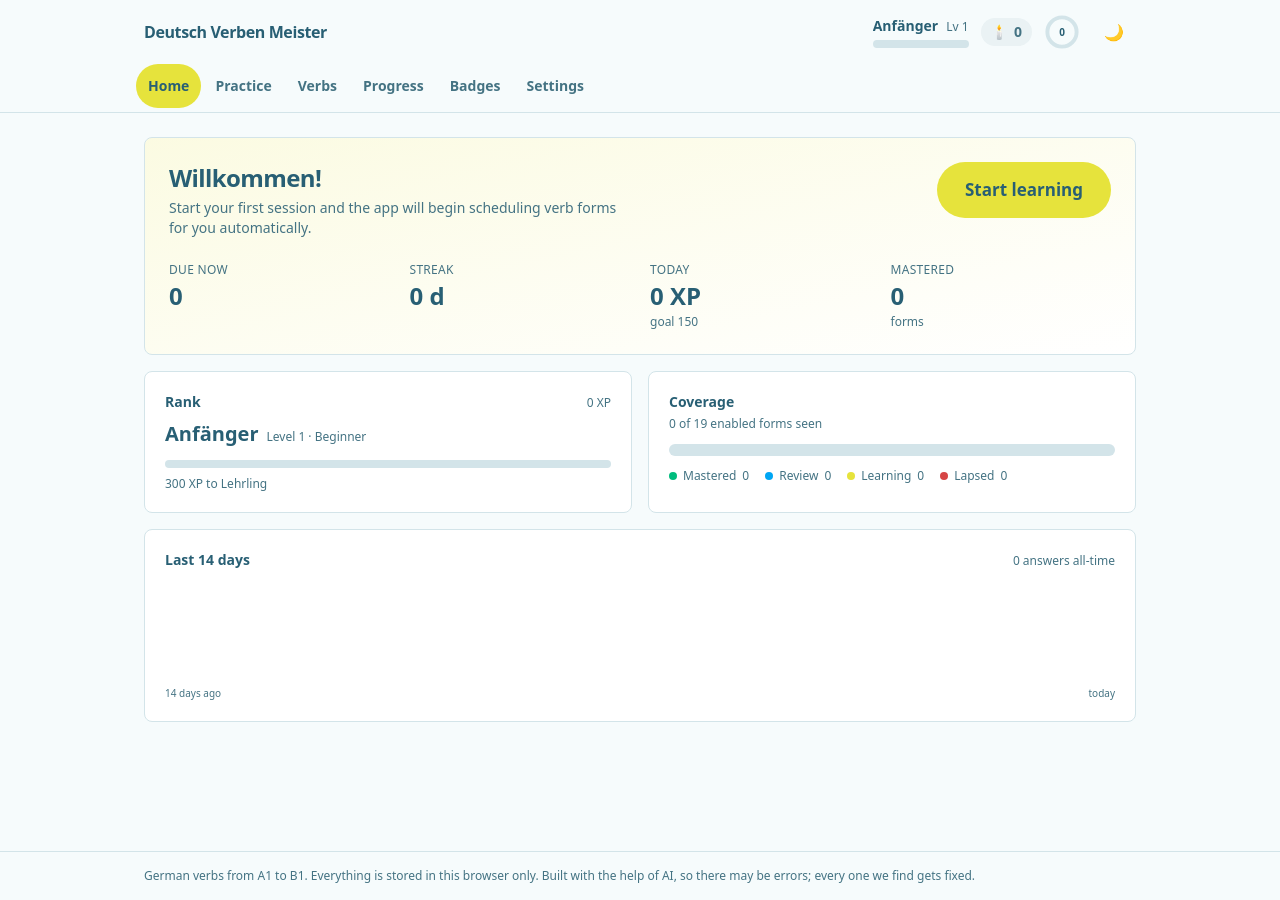
Test: application shell › navigates to every top-level page without crashing
Expected: the heading "Willkommen!" is shown, [169,161,321,194]
Click the link "Verbs": (317, 86) [298,76,337,95]
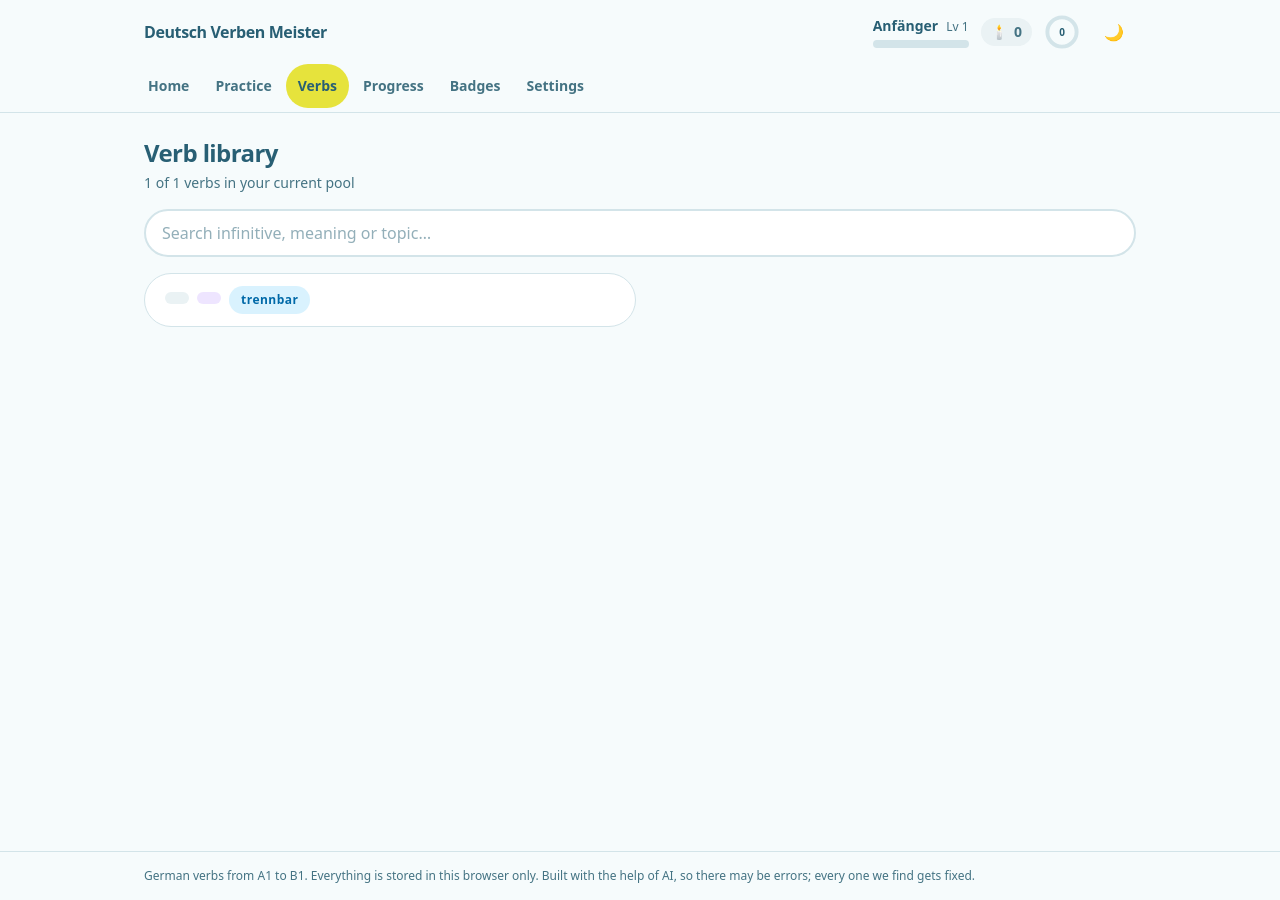
Result: the heading "Verb library" is shown at [144,136,278,169]
Click the link "Badges": (475, 86) [450,76,500,95]
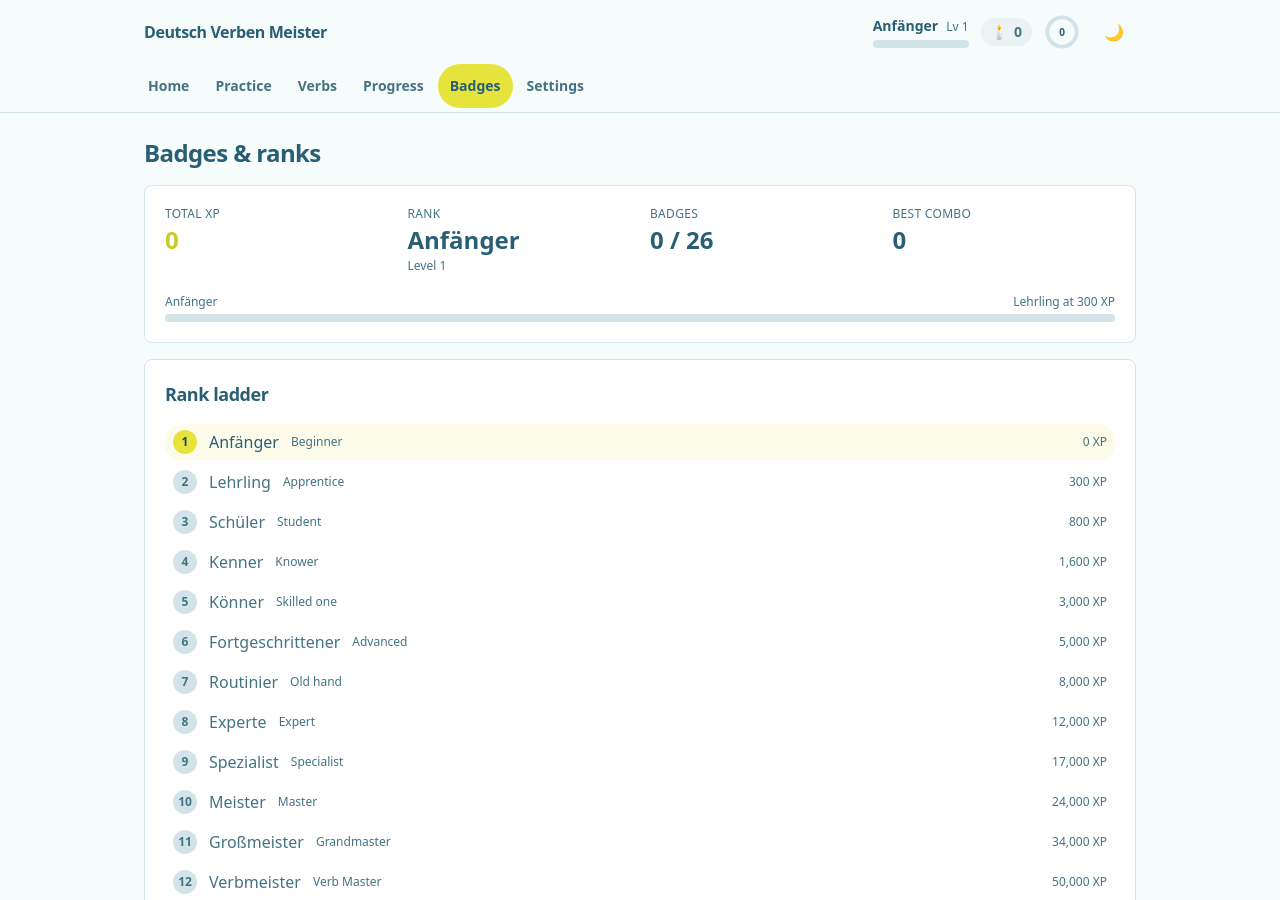
Result: the heading "Badges & ranks" is shown at [144,136,321,169]
Click the link "Settings": (555, 86) [526,76,584,95]
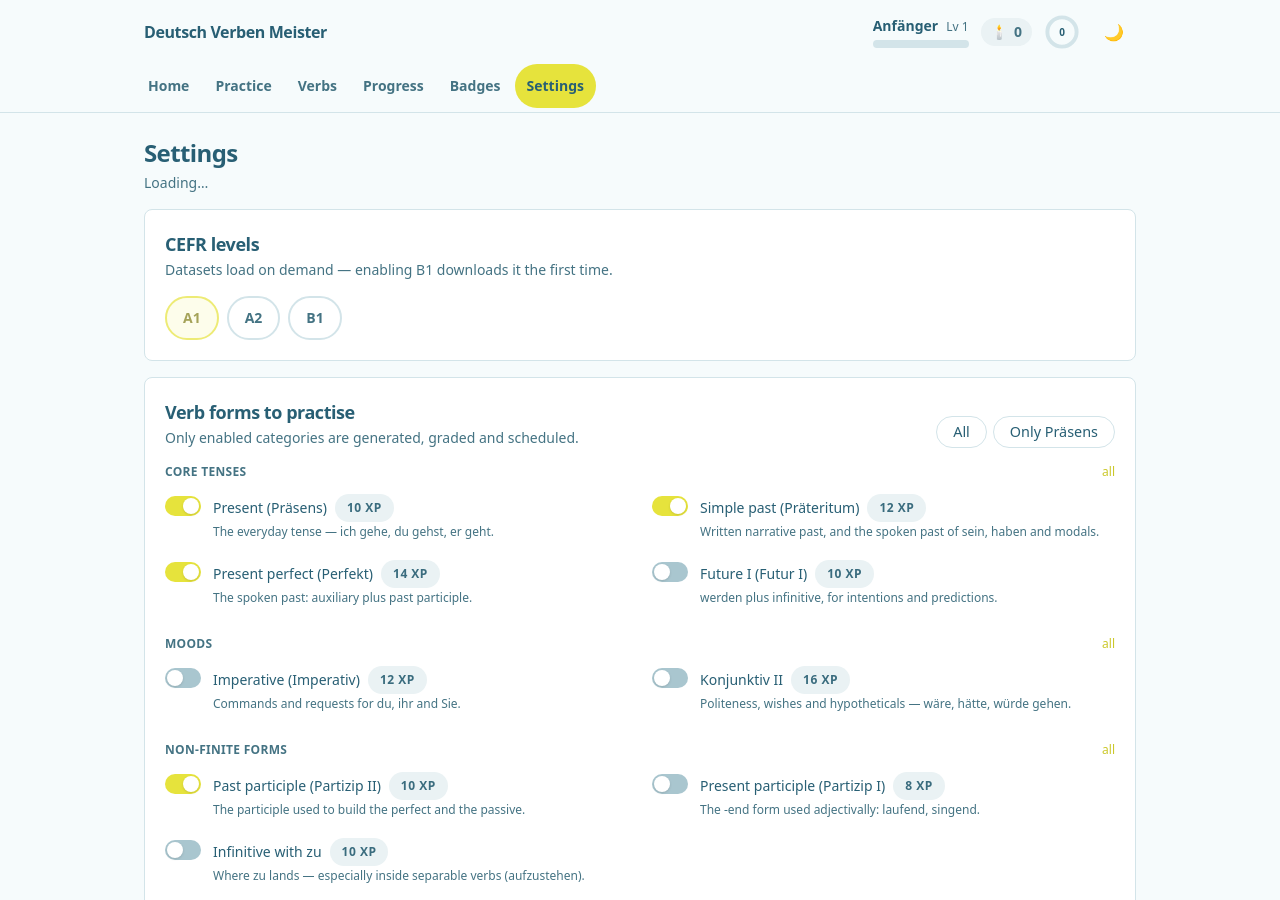
Result: the heading "Settings" is shown at [144,136,238,169]
Click the link "Practice": (244, 86) [215,76,272,95]
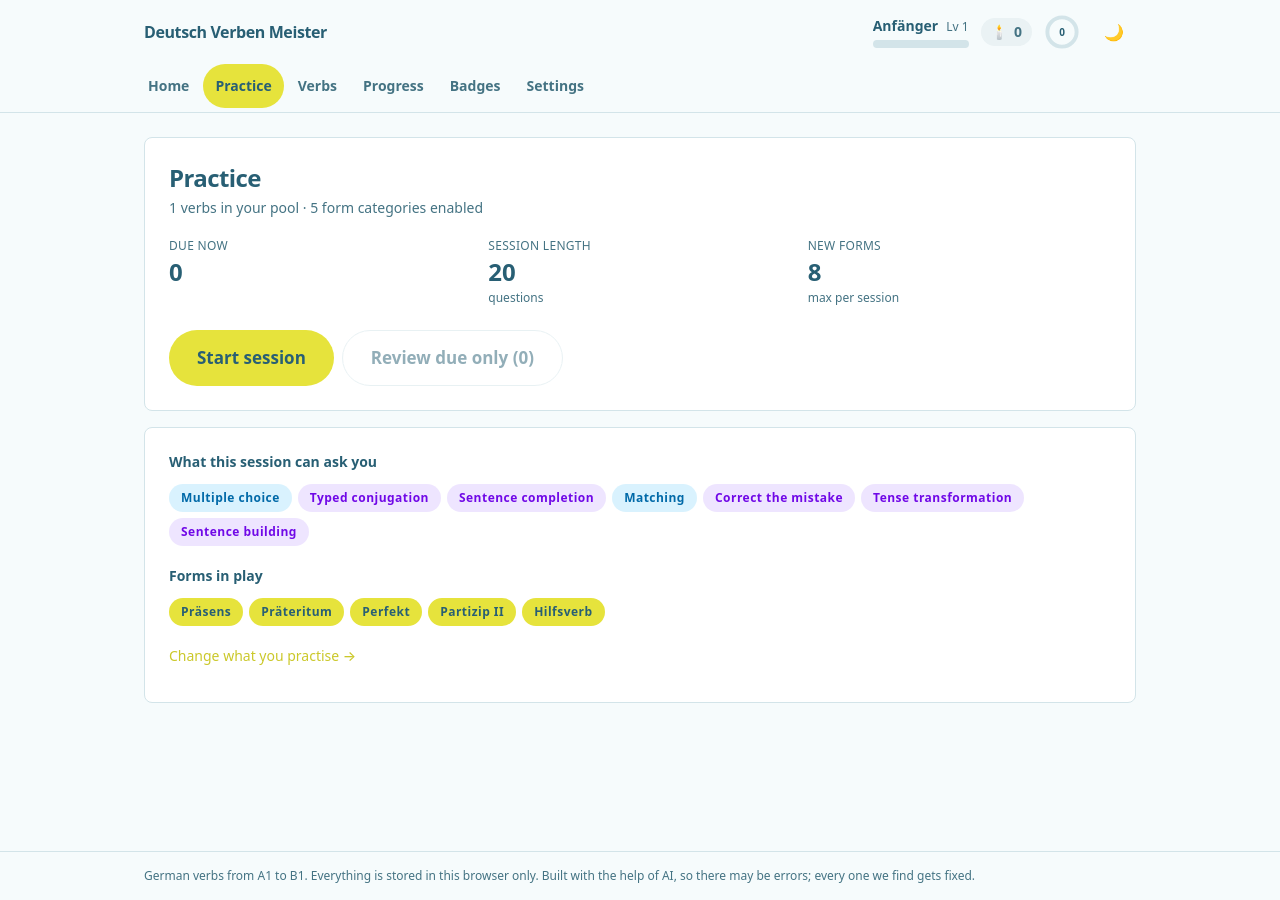
Result: the heading "Practice" is shown at [169,161,261,194]
Click the link "Progress": (393, 86) [363,76,424,95]
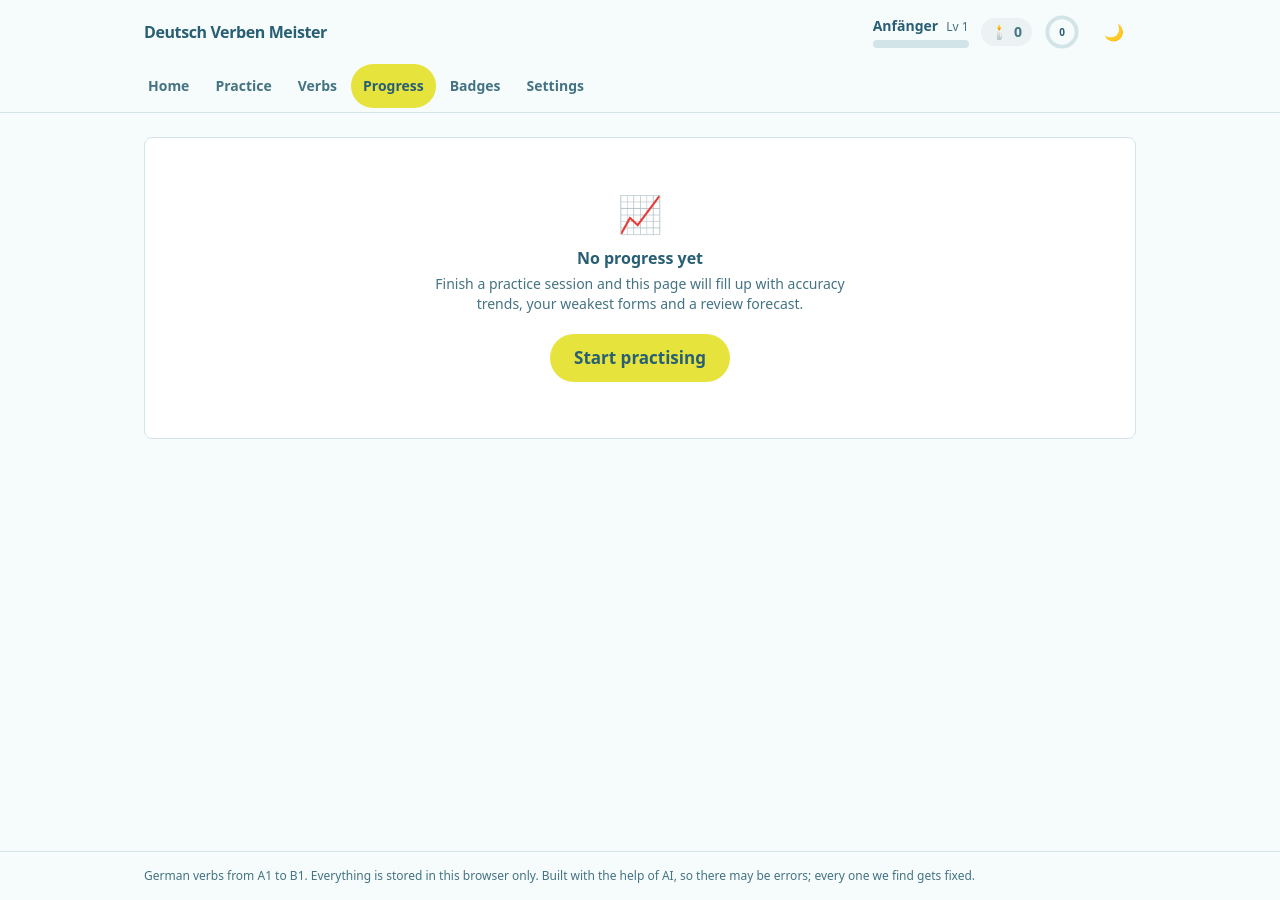
Result: the heading "No progress yet" is shown at [577,247,703,269]
